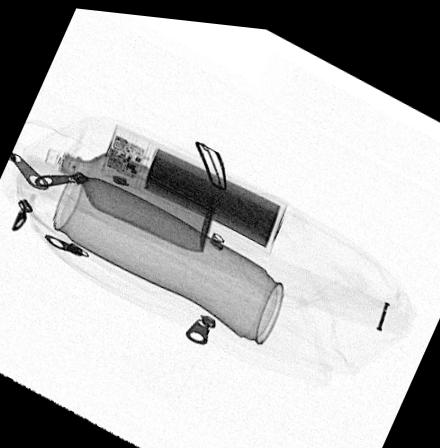Powerbank: (99, 120, 287, 248)
